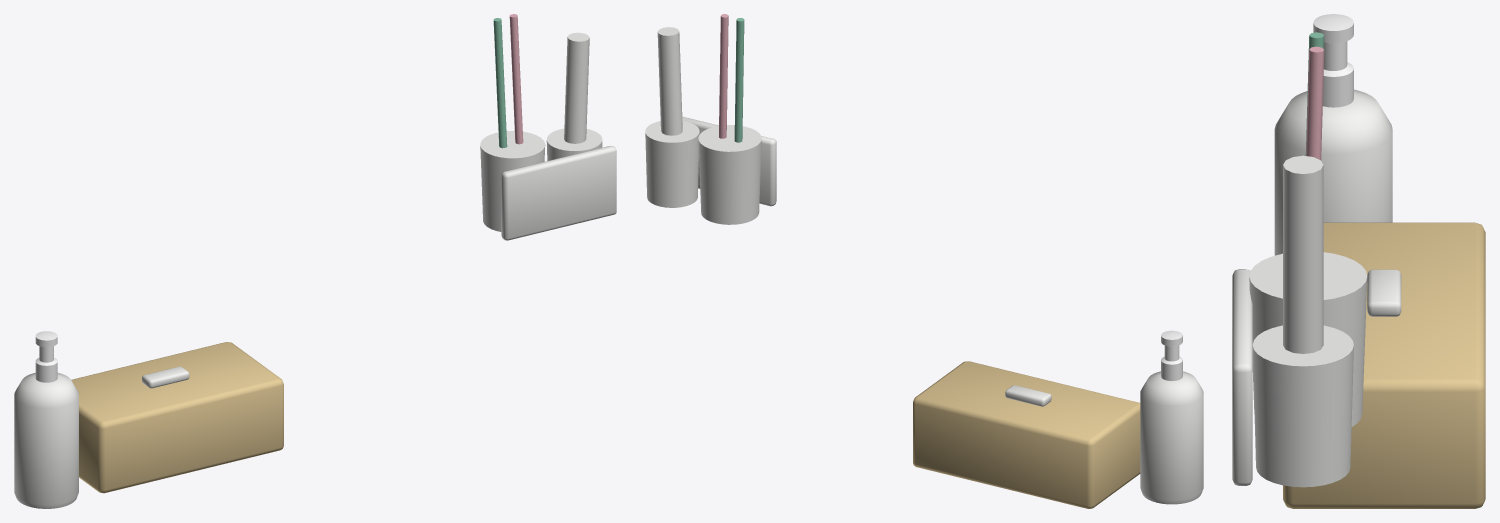
File: recPWFhl6bP5NPRTO.glb
3 renders of one model, left to right at view 1: azimuth 30°, elevation 25°; view 2: azimuth 150°, elevation 25°; view 3: azimuth 270°, elevation 25°, orthographic. The views are drawn at different scales.
Parts seen in each view (by area): view 1: objets_vasque_douche_etage_Corps; view 2: objets_vasque_douche_etage_Corps; view 3: objets_vasque_douche_etage_Corps.
Boxes of the visible parts, box(x1,y1,x2,y2) form: objets_vasque_douche_etage_Corps: box(14, 14, 616, 508); objets_vasque_douche_etage_Corps: box(645, 14, 1203, 508); objets_vasque_douche_etage_Corps: box(1232, 14, 1485, 508).
Size of the model in its own units: 0.71 by 0.4402 by 0.15.
